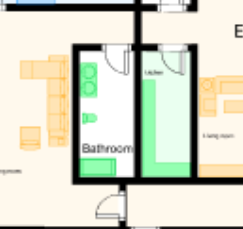door: (88, 191, 136, 222), (157, 39, 190, 81), (101, 36, 131, 78)
